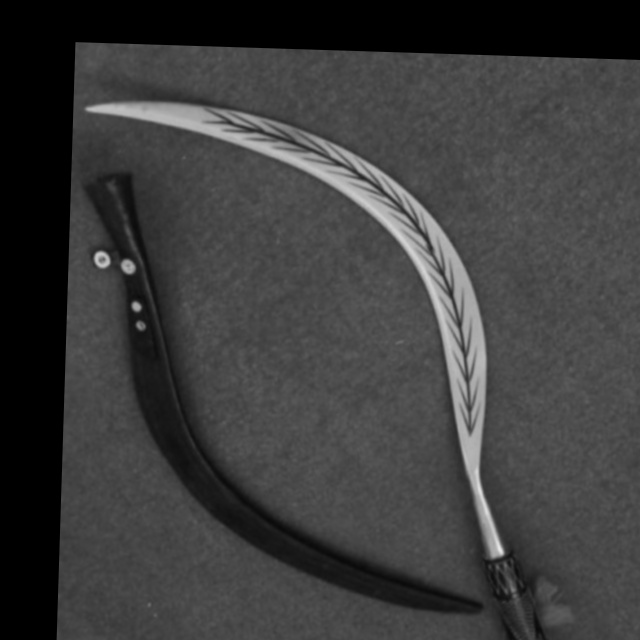Sharp-Object: (55, 42, 589, 640)
